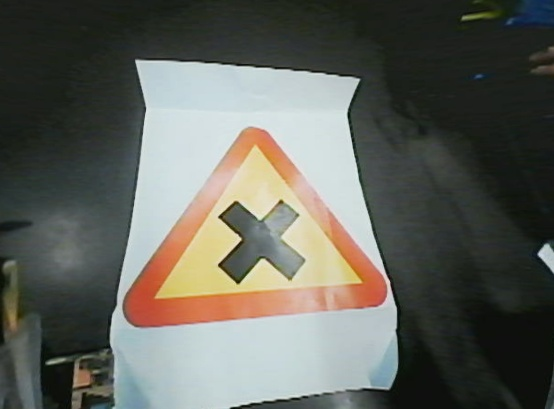junction: (118, 119, 406, 323)
